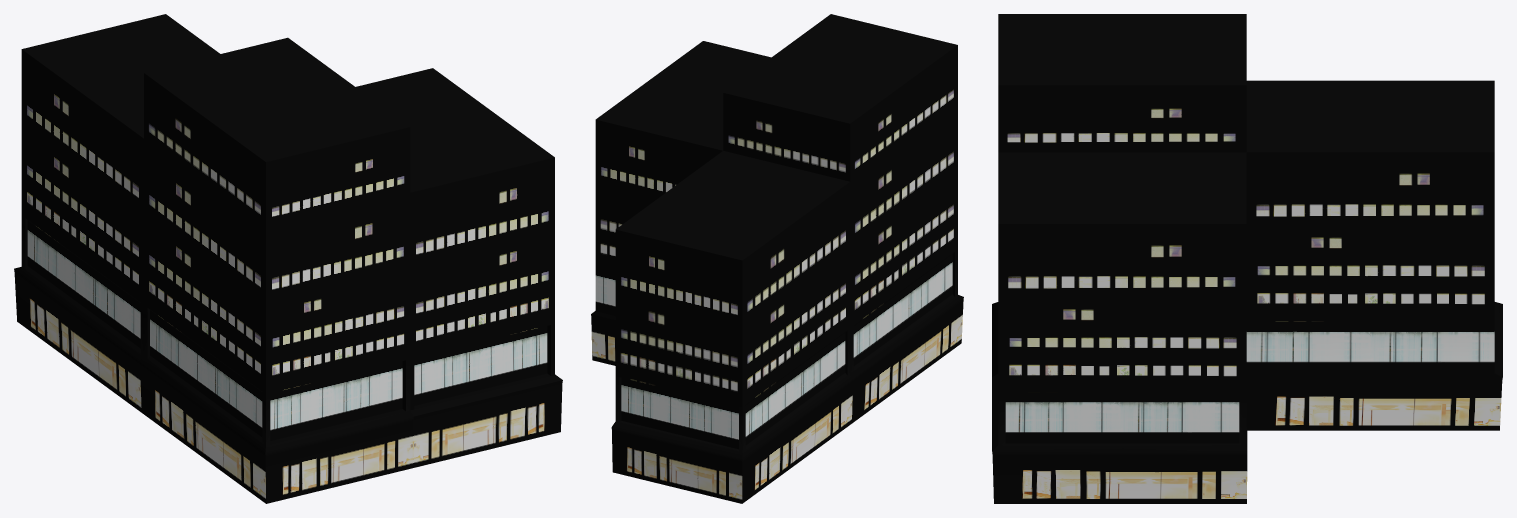
File: building5.FBX
The picture shows the model from 3 angles, left to right: view 1: azimuth 30°, elevation 25°; view 2: azimuth 150°, elevation 25°; view 3: azimuth 270°, elevation 25°; orthographic projection. The views are drawn at different scales.
Parts seen in each view (by area): view 1: Box001; view 2: Box001; view 3: Box001.
Part boxes in pixels (x1,y1,x2,y2): Box001: (14,14,562,503); Box001: (591,14,963,503); Box001: (992,14,1502,503).
Size of the model in its own units: 108 by 118 by 158.
